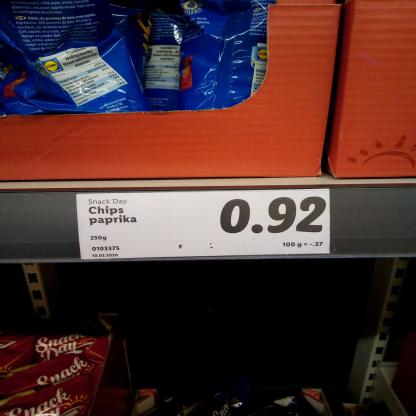prtg: (78, 190, 331, 261)
